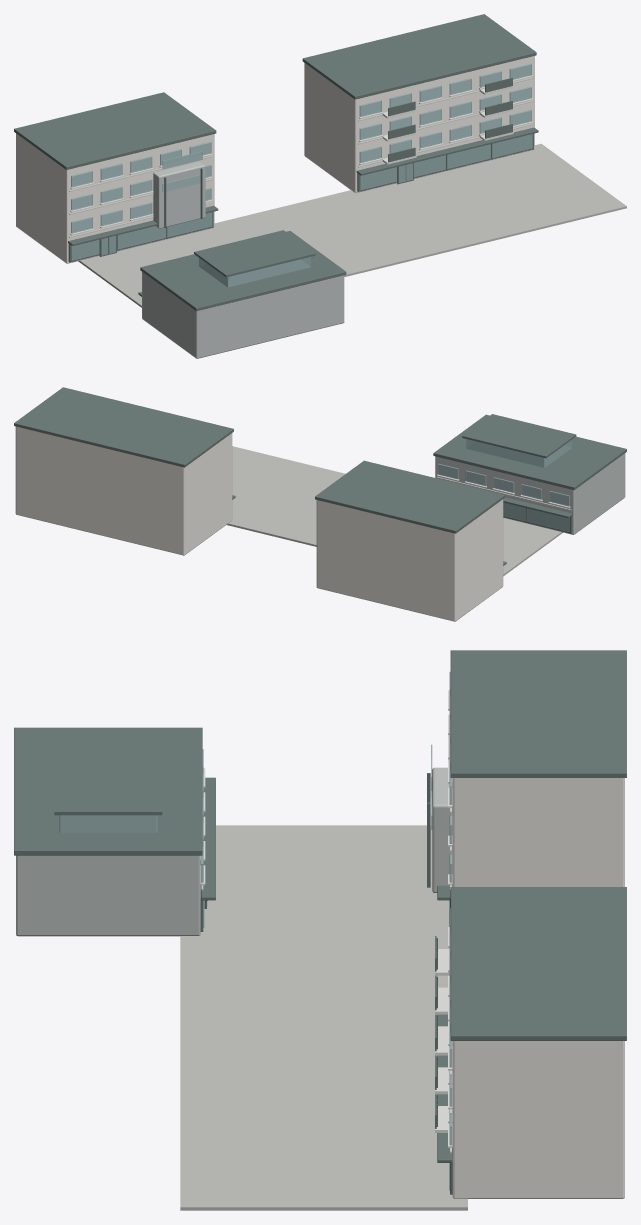
The model's file is xingfuli-center-materials.glb.
The picture shows the model from 3 angles, top to bottom: view 1: azimuth 30°, elevation 25°; view 2: azimuth 150°, elevation 25°; view 3: azimuth 270°, elevation 25°; orthographic projection. The views are drawn at different scales.
Visible parts, largest first — view 1: xingfuli-center-materials; view 2: xingfuli-center-materials; view 3: xingfuli-center-materials.
Boxes of the visible parts, x1,y1,x2,y2 form: xingfuli-center-materials: [14, 14, 626, 358]; xingfuli-center-materials: [14, 387, 626, 621]; xingfuli-center-materials: [14, 650, 626, 1210].
Size of the model in its own units: 45.34 by 8.97 by 29.83.
